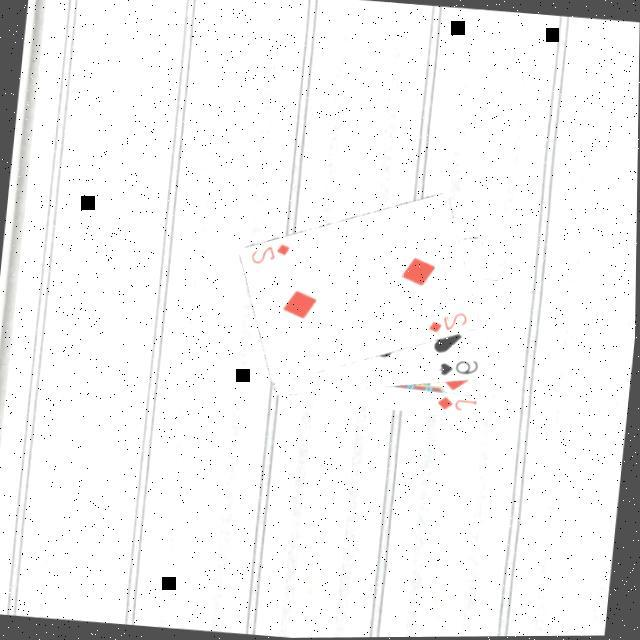2D: (424, 305, 470, 339), (246, 236, 292, 270)
6S: (433, 353, 481, 381)
JD: (431, 391, 479, 415)
